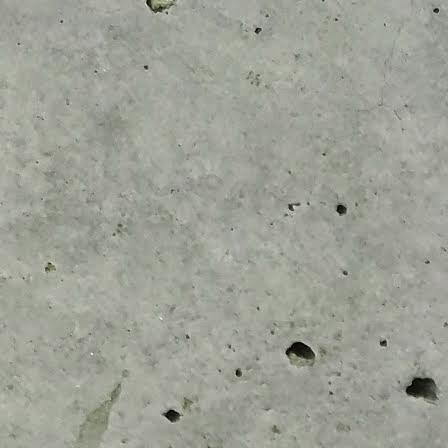spalling: (281, 336, 320, 376), (404, 376, 443, 409), (159, 404, 185, 428)
